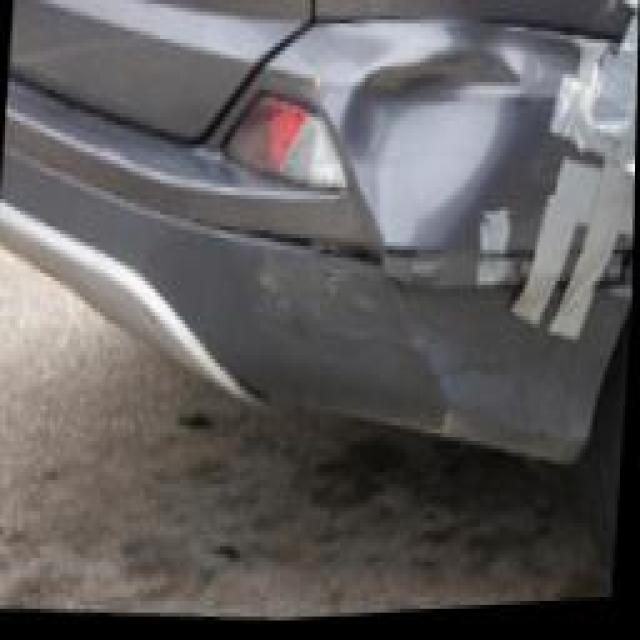Bumper: (228, 23, 557, 443)
